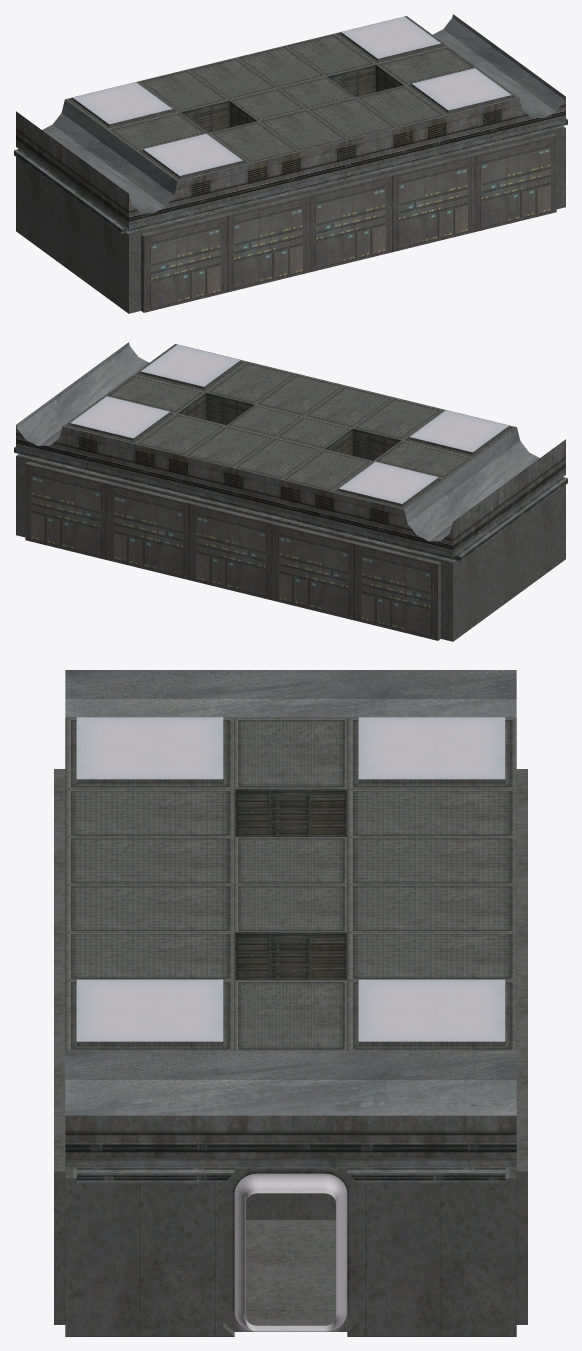
File: thm_spc_corvette_dungeon_r27_thrustersubroom27_mesh_r27.fbx
3 views of the same model, one above another, from view 1: azimuth 30°, elevation 25°; view 2: azimuth 150°, elevation 25°; view 3: azimuth 270°, elevation 25° (orthographic). The views are drawn at different scales.
Visible parts, largest first — view 1: mesh_node; view 2: mesh_node; view 3: mesh_node.
Boxes of the visible parts, x1,y1,x2,y2 form: mesh_node: [14, 14, 567, 313]; mesh_node: [14, 342, 567, 641]; mesh_node: [54, 670, 527, 1336].
Bounding box in the file's own units: 18.3 × 4.8 × 8.4.
